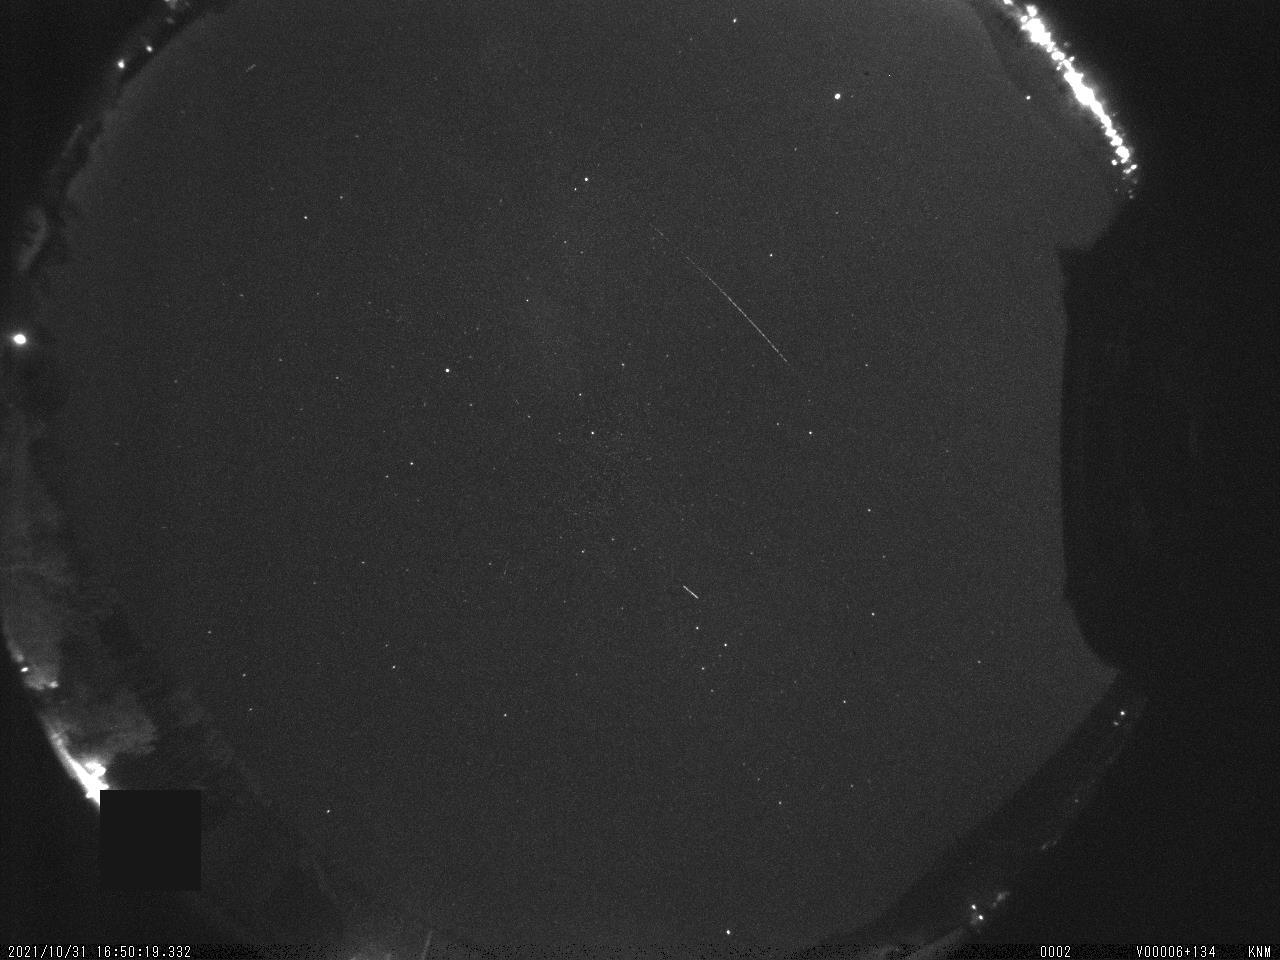meteor: (652, 234, 824, 387)
